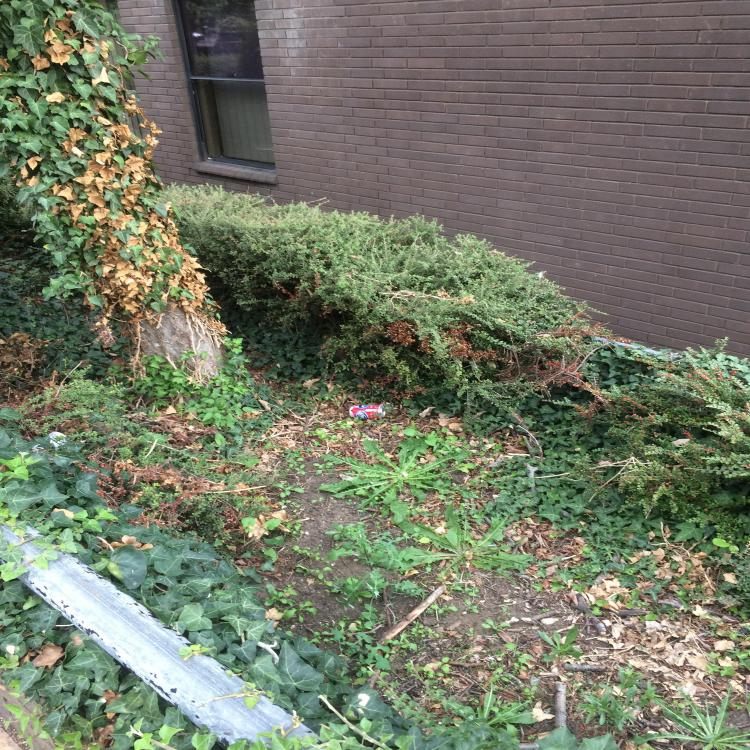Drink can: (349, 405, 385, 419)
